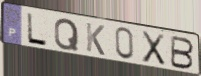0: (114, 26, 136, 62)
B: (170, 34, 196, 71)
K: (85, 21, 107, 57)
L: (26, 12, 49, 49)
Q: (53, 17, 80, 52)
X: (140, 30, 166, 68)
